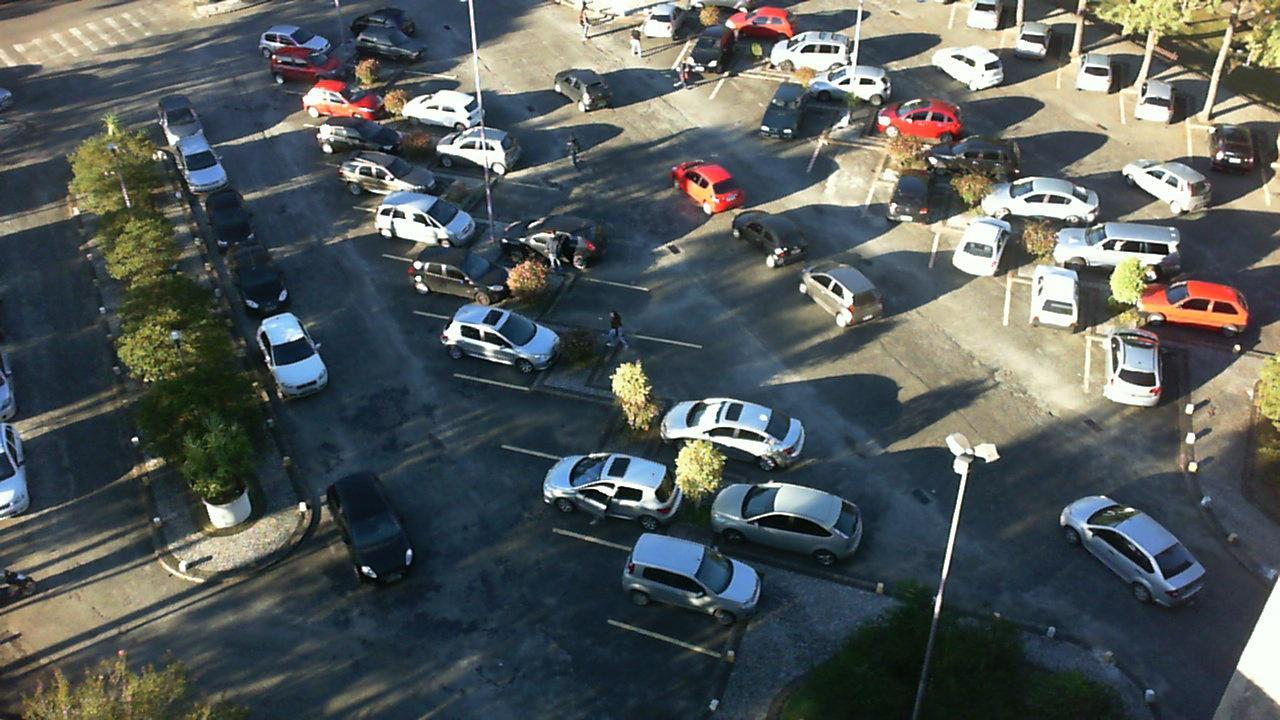empty: (491, 366, 626, 456), (603, 324, 724, 402), (543, 264, 673, 334), (473, 167, 589, 225), (801, 137, 884, 205), (709, 71, 784, 130), (383, 65, 472, 105)
occupied: (608, 526, 775, 654), (542, 439, 695, 539), (634, 397, 776, 485), (730, 478, 865, 570), (446, 304, 573, 386), (1139, 292, 1260, 362), (1083, 341, 1181, 421), (508, 216, 630, 277), (408, 252, 524, 316), (384, 198, 497, 263), (1065, 231, 1169, 296), (935, 223, 1013, 307), (1005, 271, 1085, 351), (992, 185, 1105, 240), (404, 88, 515, 143), (343, 156, 450, 211), (863, 183, 946, 253), (316, 113, 413, 169), (927, 140, 1028, 191), (629, 10, 703, 77), (760, 104, 832, 172), (445, 132, 544, 181), (819, 68, 916, 116), (670, 45, 745, 106), (301, 84, 393, 130), (1123, 84, 1182, 153), (867, 105, 955, 150), (278, 51, 364, 97), (349, 35, 438, 76), (732, 12, 821, 53), (1000, 33, 1064, 88), (1057, 56, 1118, 113), (778, 43, 857, 84)
